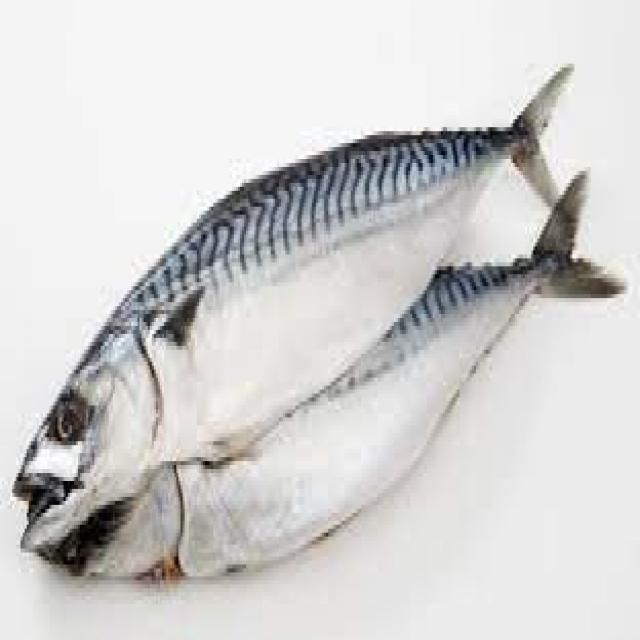fish: (14, 84, 632, 624)
